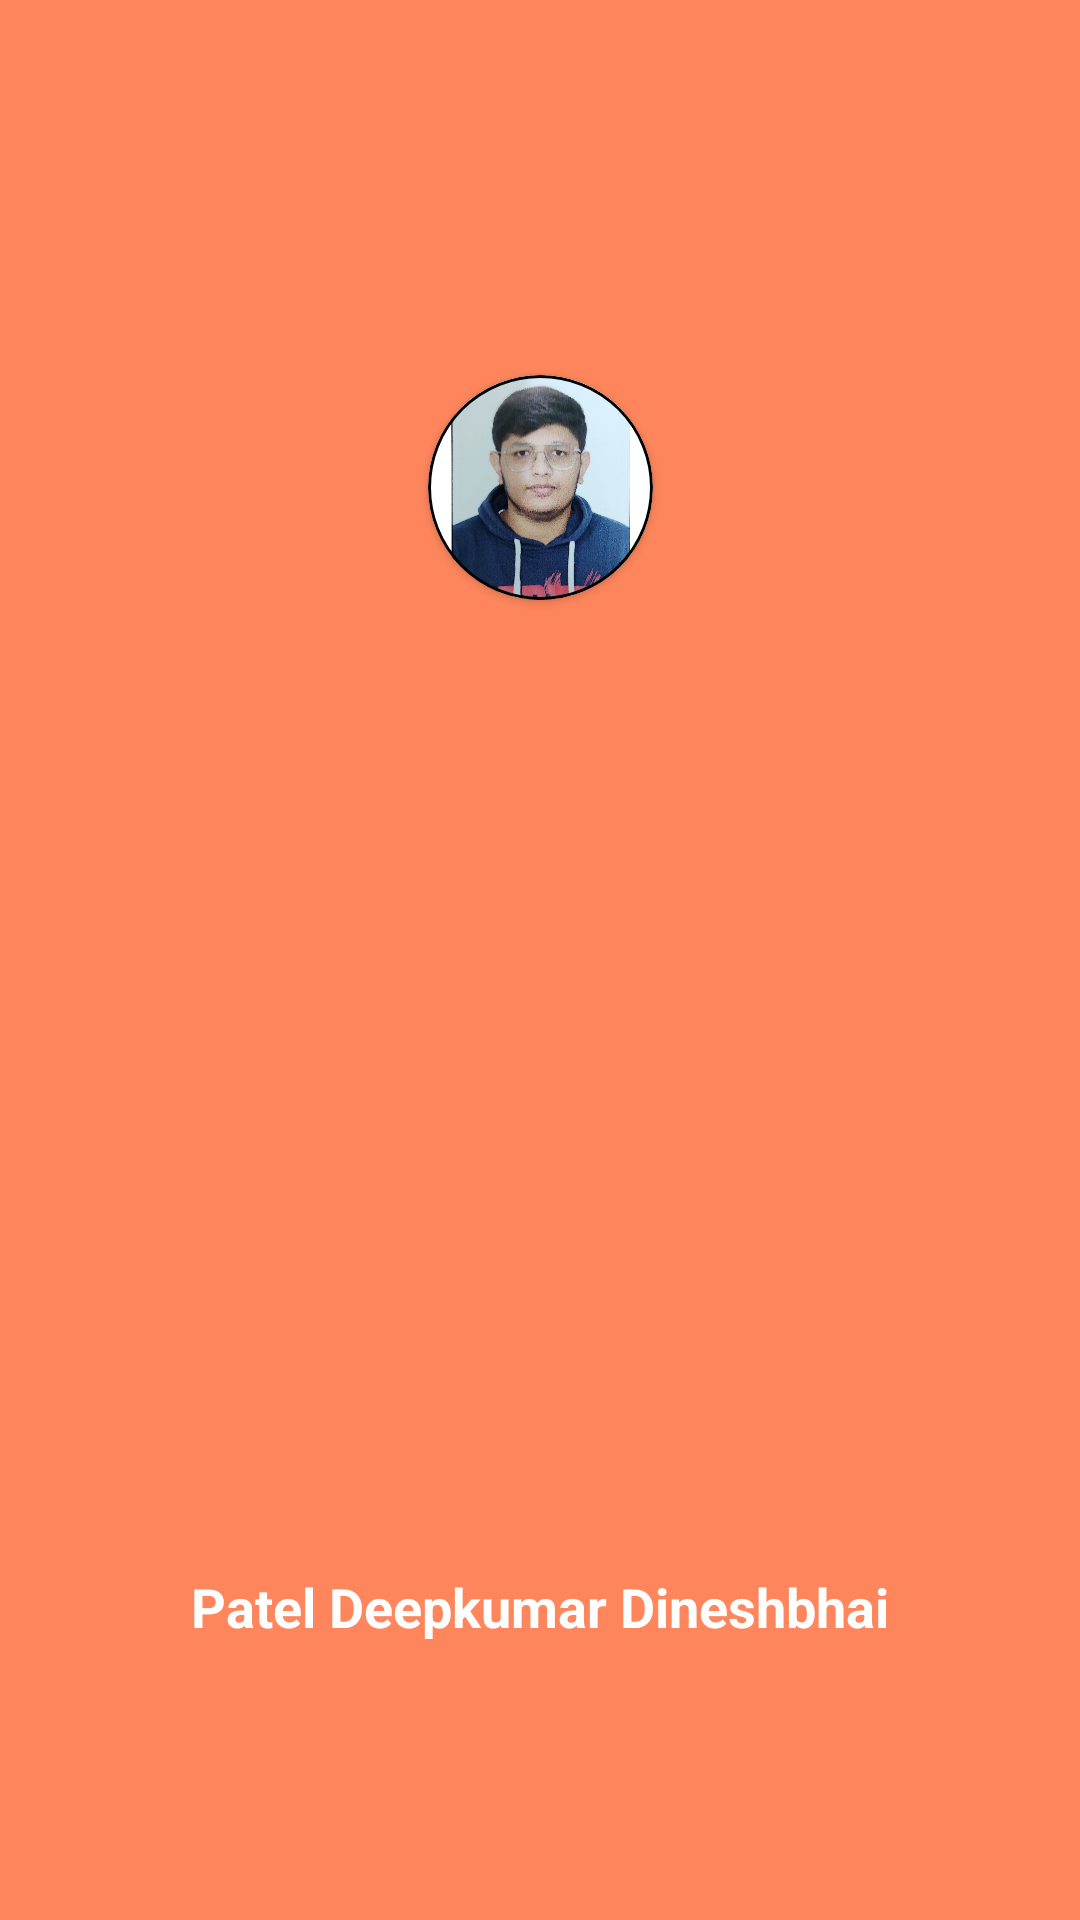

Icons on this 1080w x 1920h Android screen, each with its box as (x1,y1,x2,y2):
tempphoto: (428,375,653,600)
